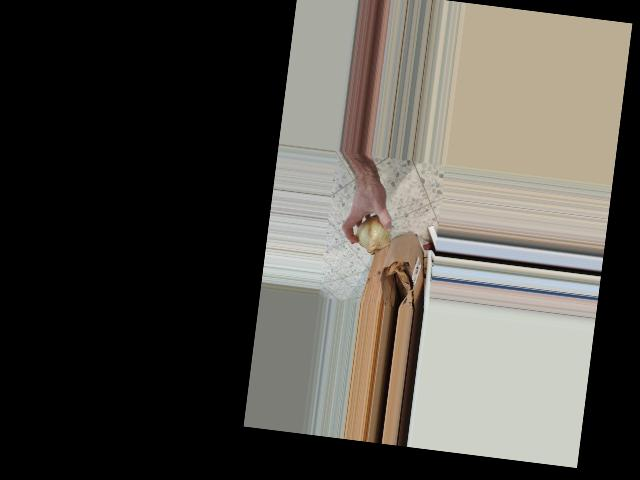onion: (351, 208, 395, 258)
